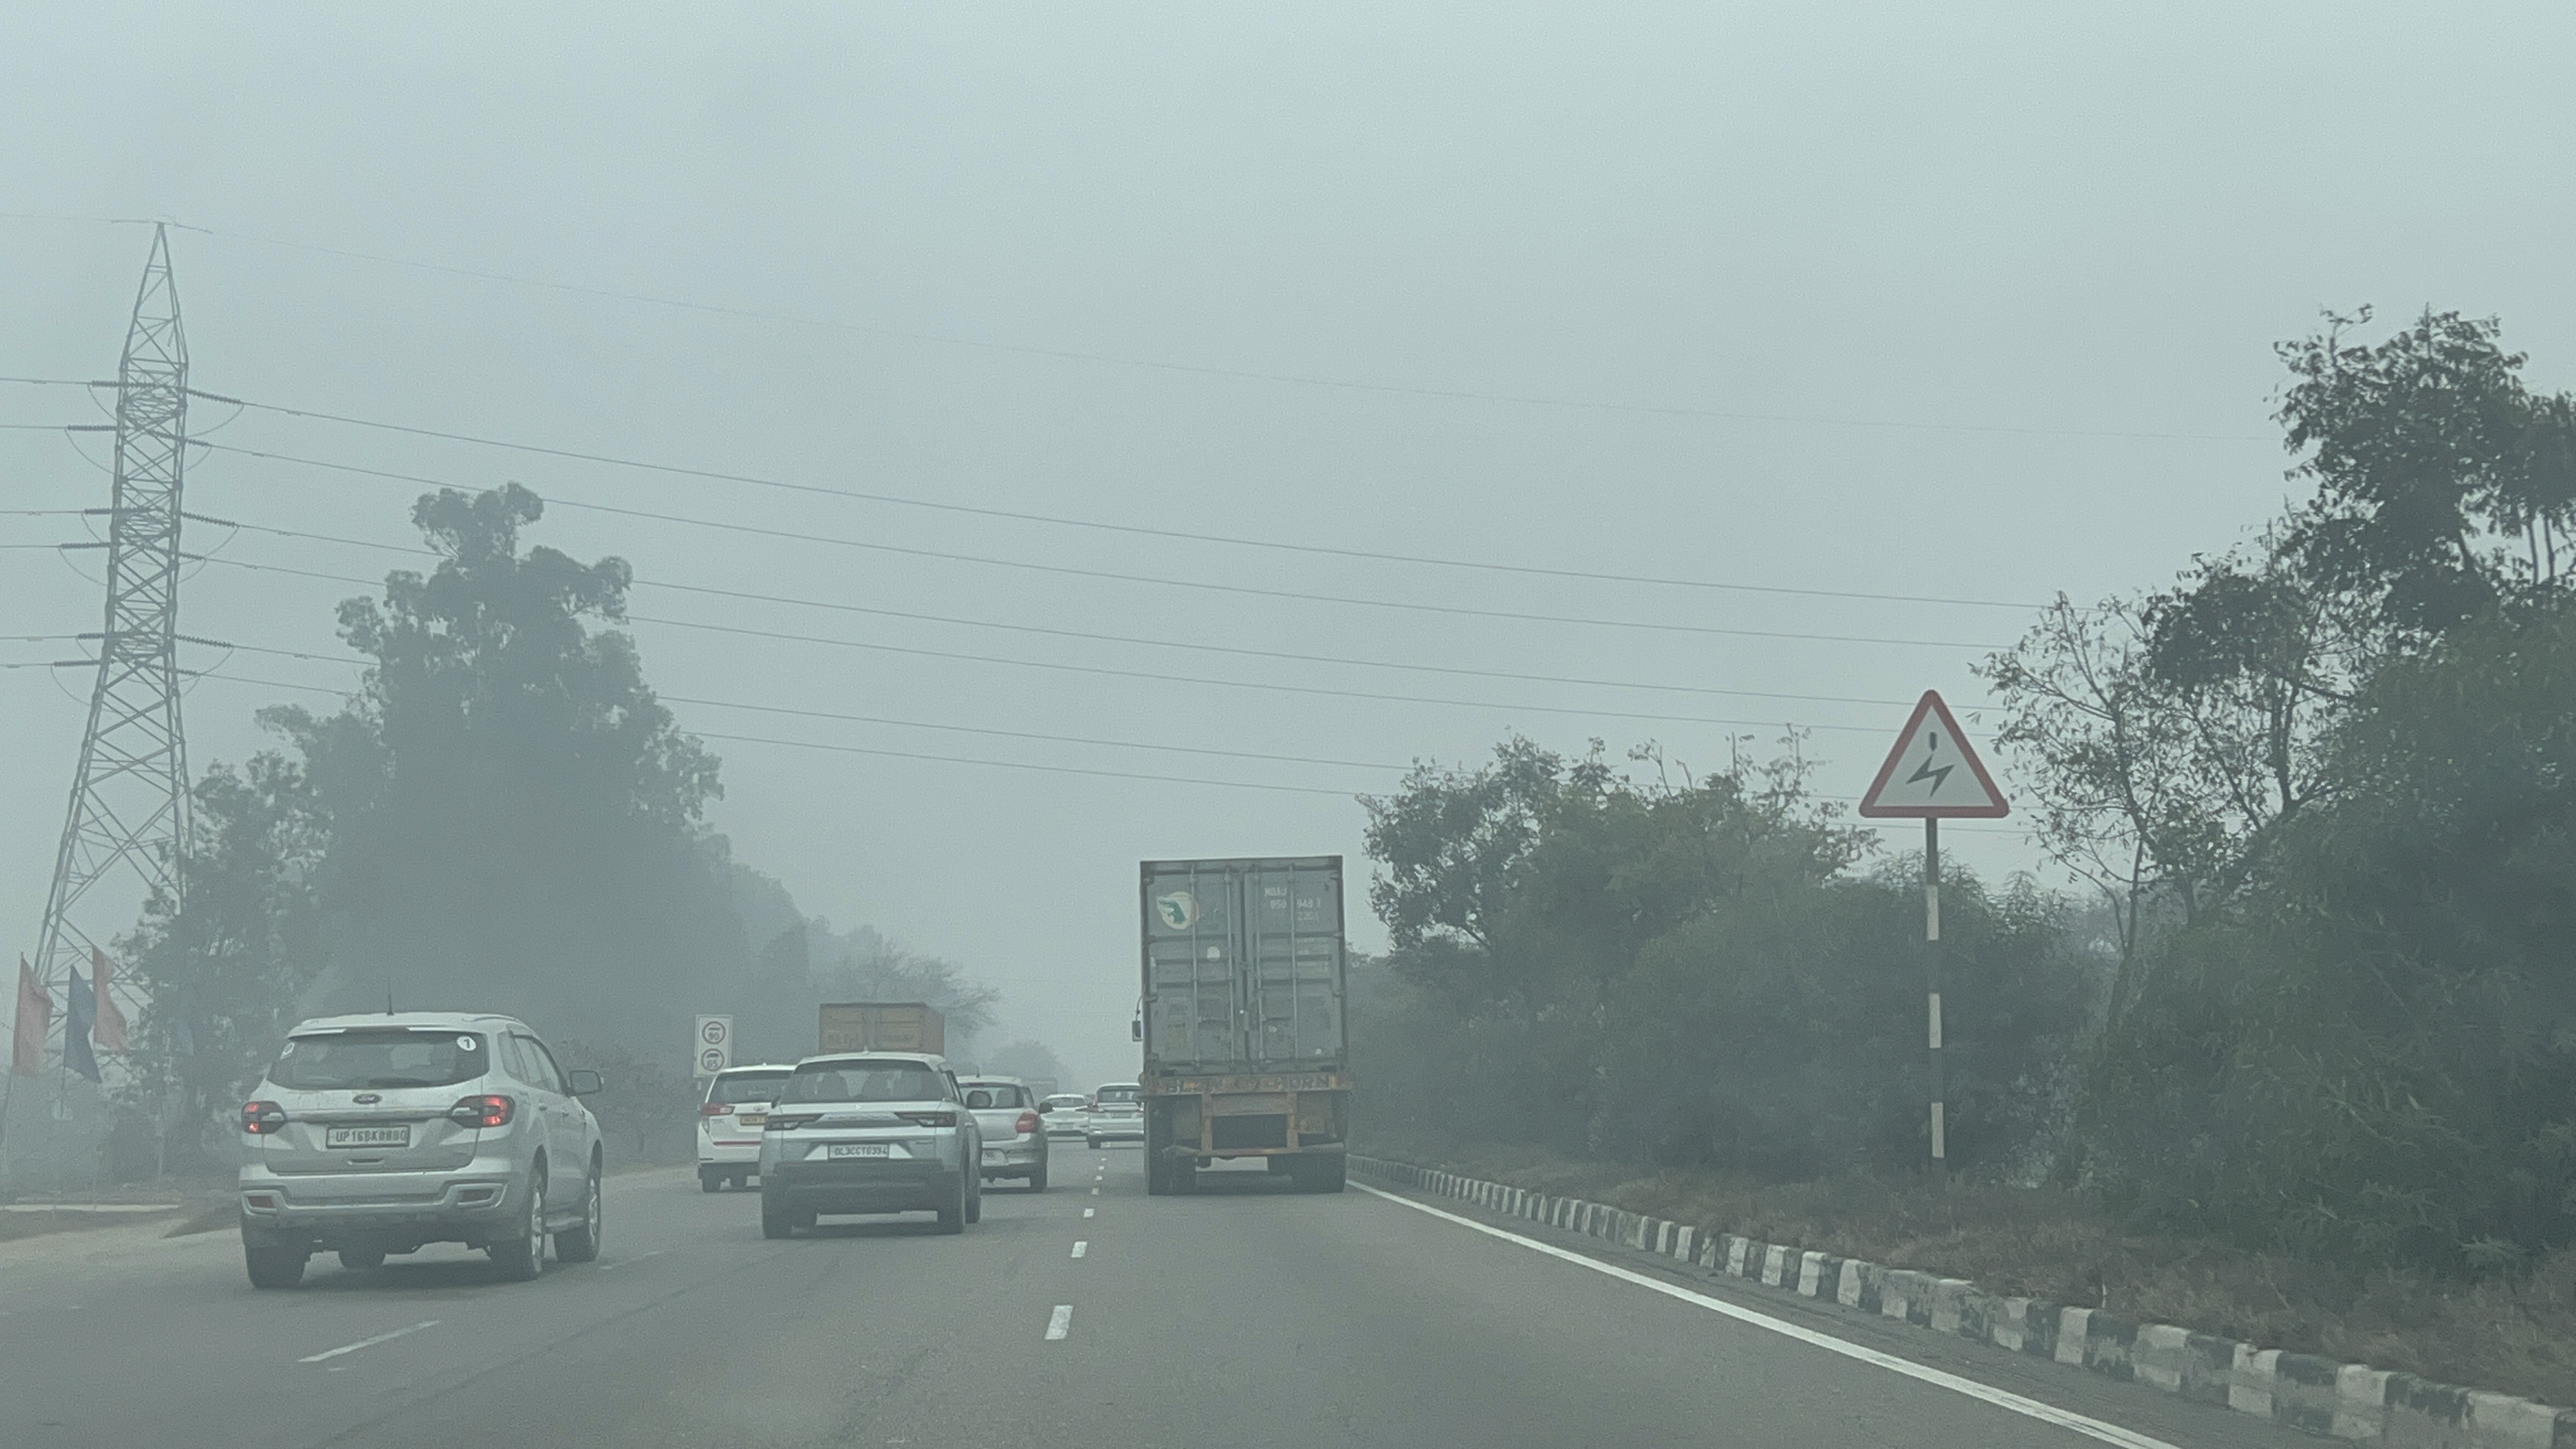Mandatory: (690, 1010, 740, 1083)
Warning: (1842, 672, 2020, 833)
